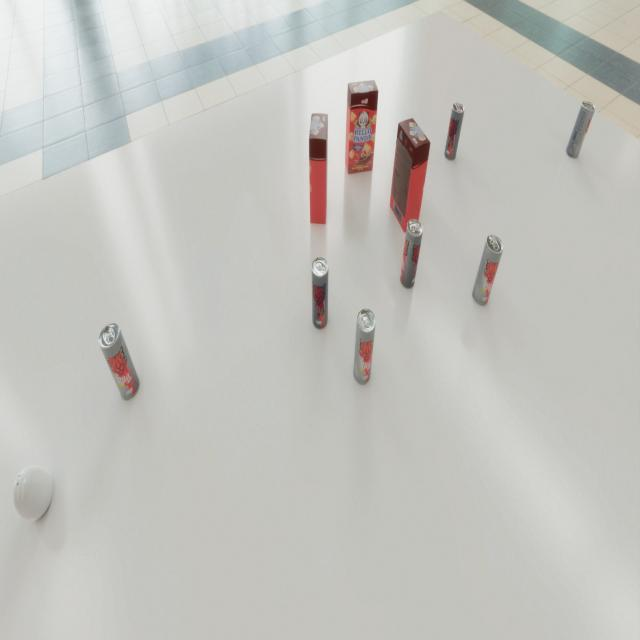HelloPanda: (390, 118, 430, 233), (345, 80, 379, 174), (309, 113, 328, 224)
Rita_zero_sugar: (99, 323, 140, 400), (472, 235, 504, 306), (353, 308, 376, 385), (566, 101, 596, 159), (400, 219, 423, 289), (444, 102, 465, 160), (312, 256, 328, 330)
Salt: (12, 466, 52, 522)
